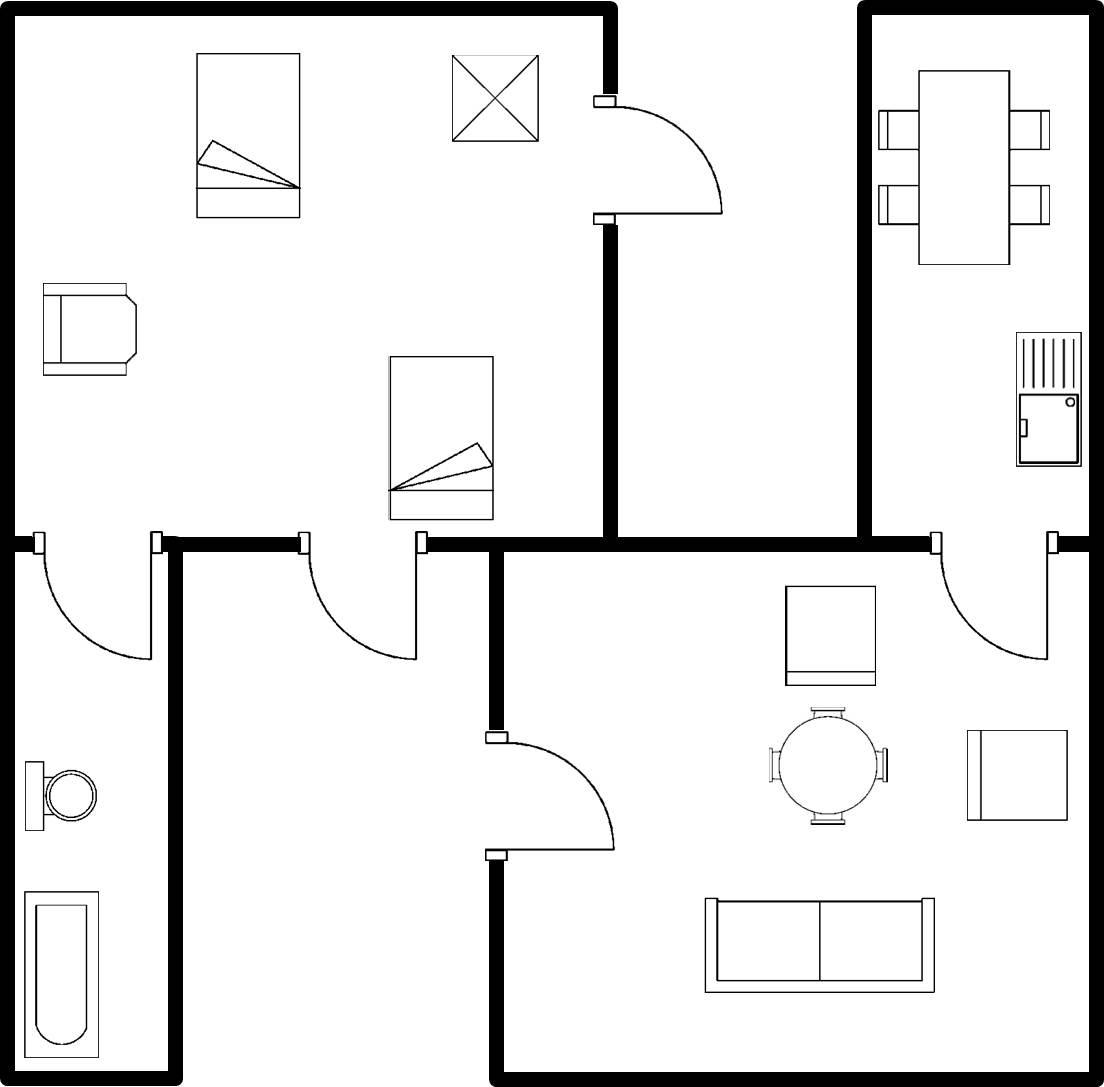bed: (184, 45, 311, 226), (379, 347, 500, 527)
dining_table: (873, 63, 1058, 273)
sink: (1005, 321, 1087, 475)
sofa: (693, 888, 944, 1003)
